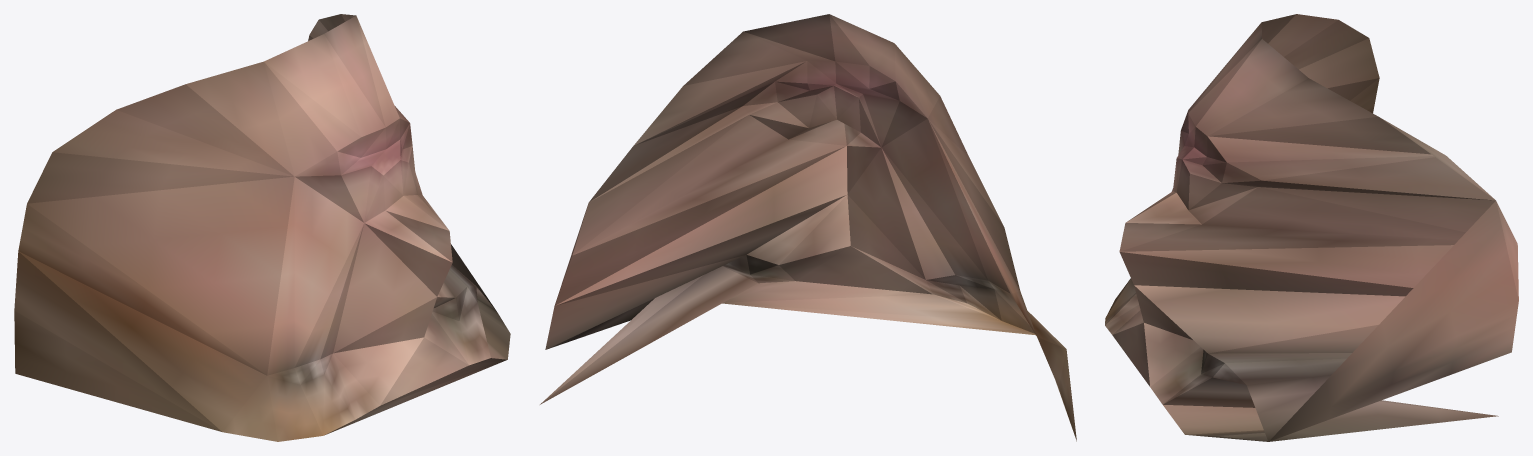
The model's file is real_58519.obj.
3 renders of one model, left to right at view 1: azimuth 30°, elevation 25°; view 2: azimuth 150°, elevation 25°; view 3: azimuth 270°, elevation 25°, orthographic. The views are drawn at different scales.
Size of the model in its own units: 111 by 79 by 90.71.
